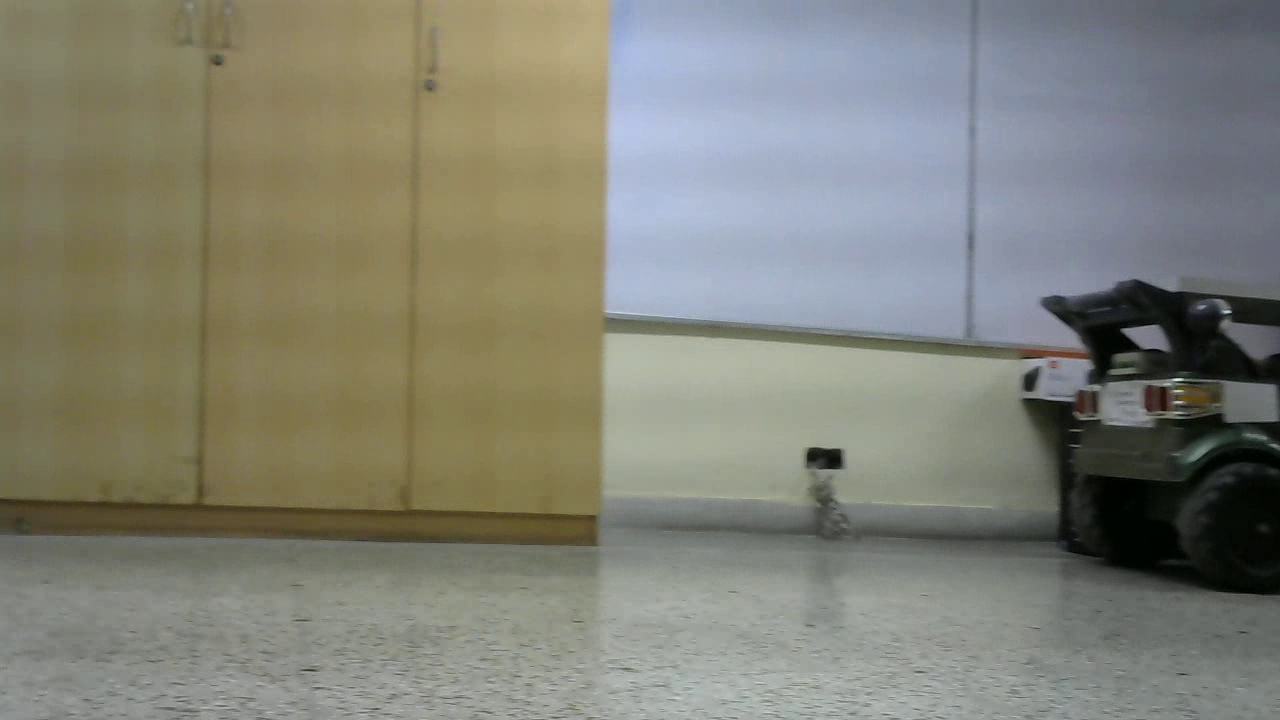chair: (1096, 4, 1280, 712)
